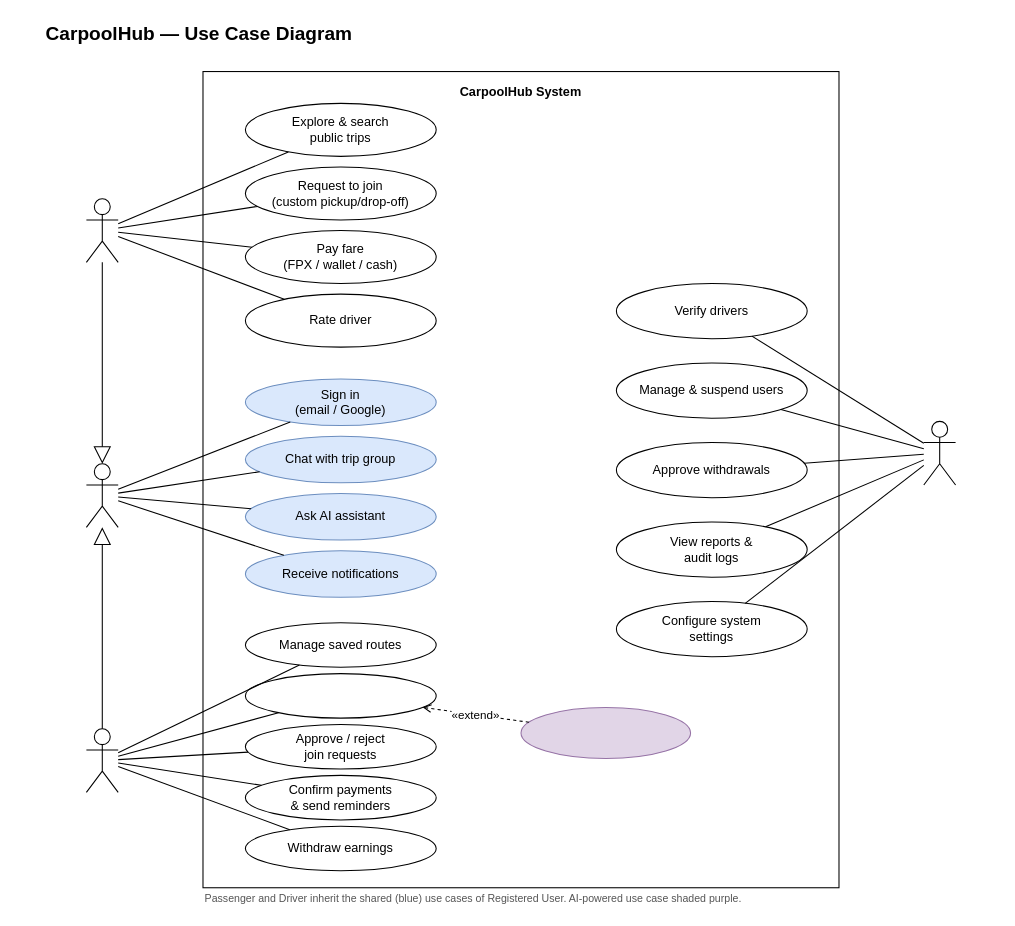
This 1015x926 diagram has some shape labels left out. Each missing label, with the centre of its shape:
Admin: point 939,452
Create trip (one-way / two-way): point 340,695
Driver: point 101,760
Get AI fare & seat suggestion: point 605,732
Passenger: point 101,230
Registered User: point 101,495
